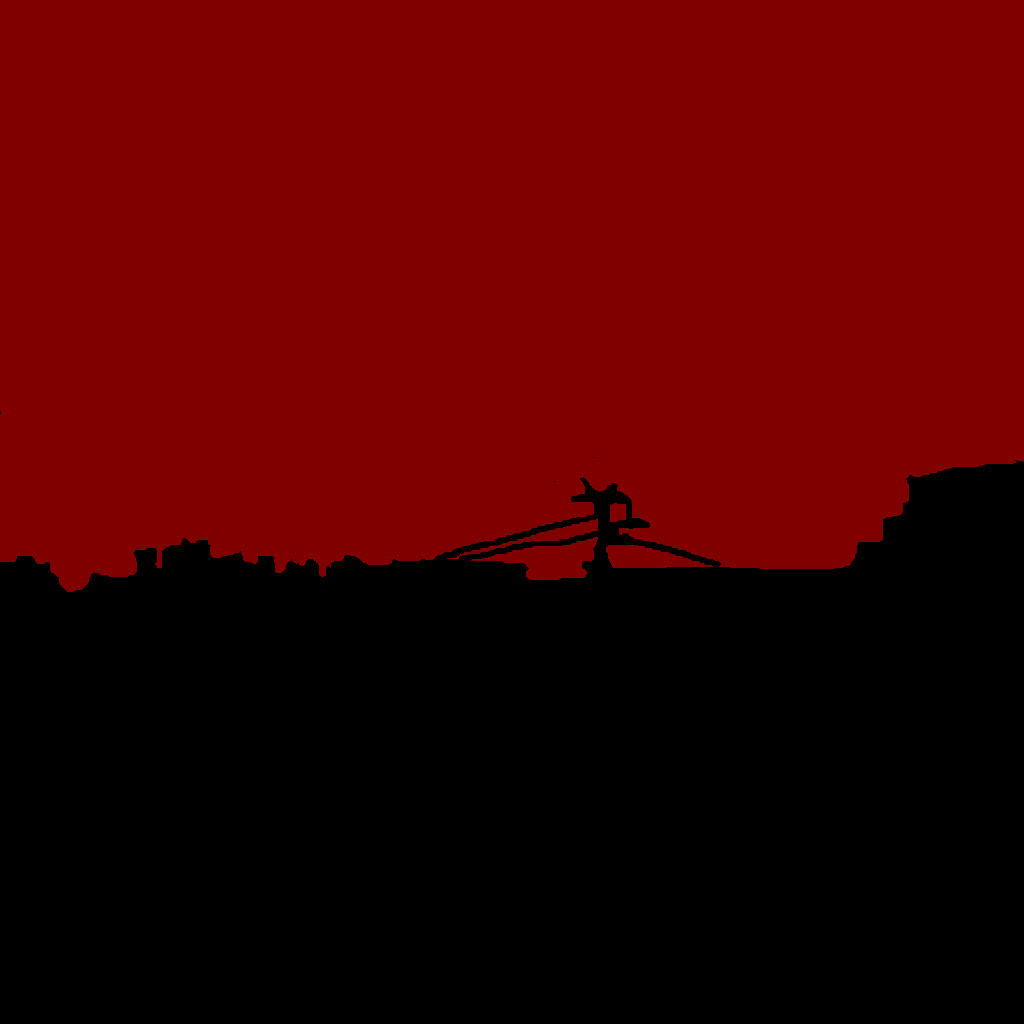Sky: (1, 1, 1023, 591)
